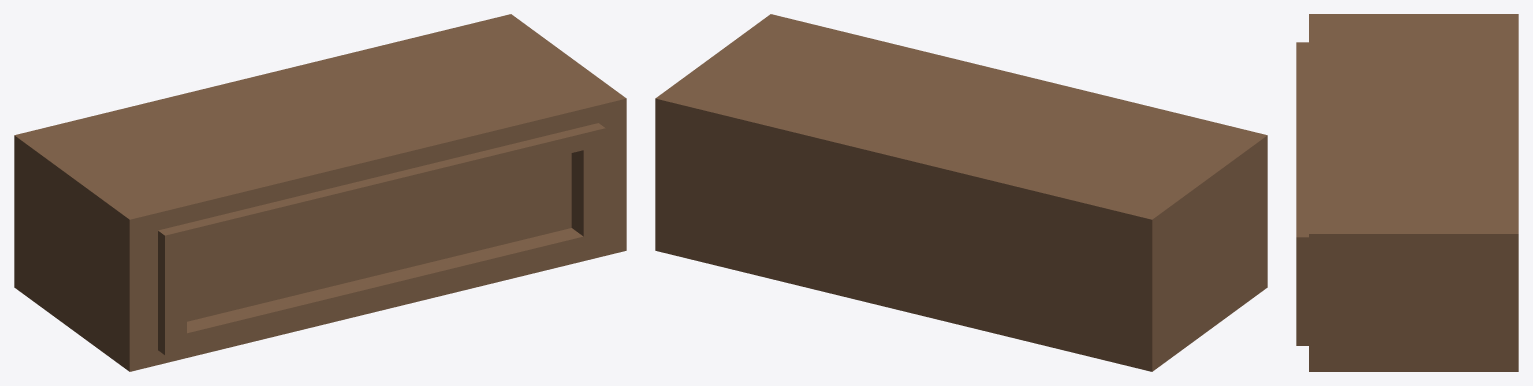
File: ChurchAltar.fbx
3 renders of one model, left to right at view 1: azimuth 30°, elevation 25°; view 2: azimuth 150°, elevation 25°; view 3: azimuth 270°, elevation 25°, orthographic. The views are drawn at different scales.
Visible parts, largest first — view 1: pCube202; view 2: pCube202; view 3: pCube202.
Part boxes in pixels (<box>): pCube202: <box>14,14,626,371</box>; pCube202: <box>655,14,1267,371</box>; pCube202: <box>1296,14,1518,371</box>.
Bounding box in the file's own units: 1.01 × 0.2966 × 0.4328.
